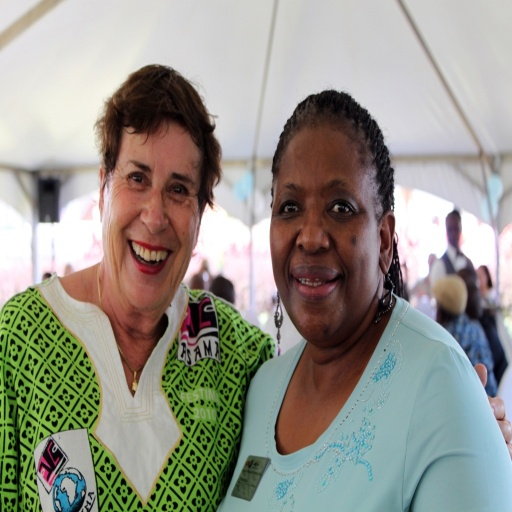hand: (473, 362, 511, 458)
